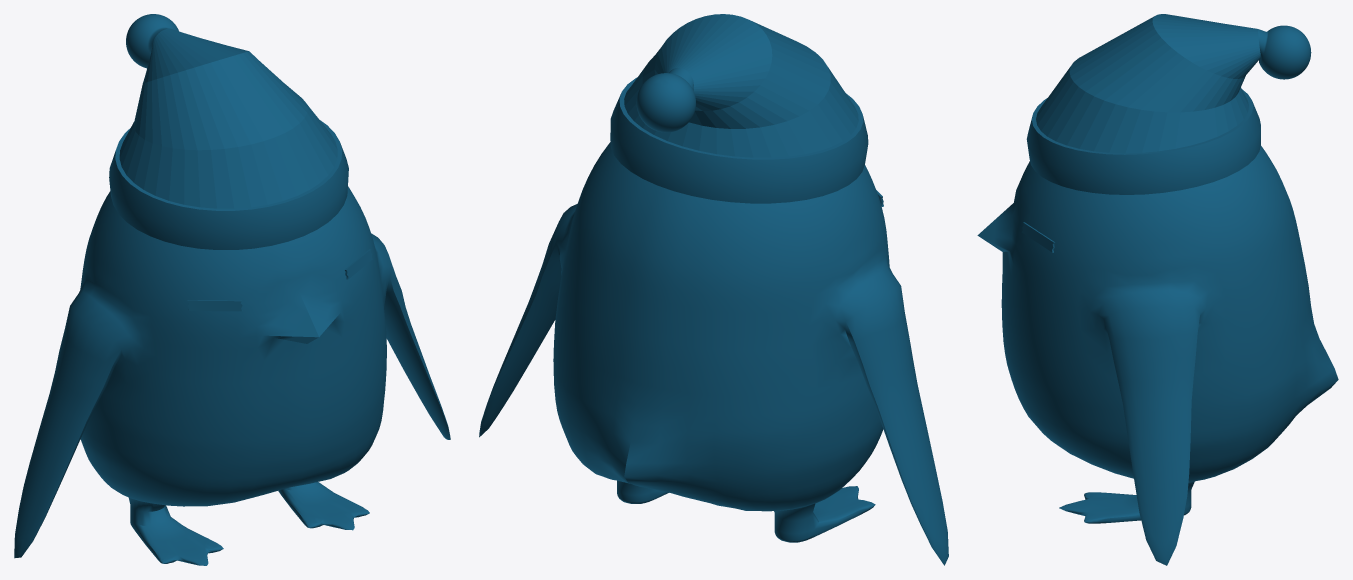
File: penguin_blue_idle_08f.fbx
The picture shows the model from 3 angles, left to right: view 1: azimuth 30°, elevation 25°; view 2: azimuth 150°, elevation 25°; view 3: azimuth 270°, elevation 25°; orthographic projection. The views are drawn at different scales.
Visible parts, largest first — view 1: ppp_8, bousi, ai; view 2: ppp_8, bousi; view 3: ppp_8, bousi.
Boxes of the visible parts, <box> form: ppp_8: <box>14,186,450,565</box>; bousi: <box>109,14,348,249</box>; ai: <box>187,249,372,311</box>; ppp_8: <box>479,142,948,565</box>; bousi: <box>610,14,868,203</box>; ppp_8: <box>977,145,1338,565</box>; bousi: <box>1026,14,1311,194</box>.
Size of the model in its own units: 19.81 by 20.12 by 14.66.
Materials: 1 (1 with a texture image).
